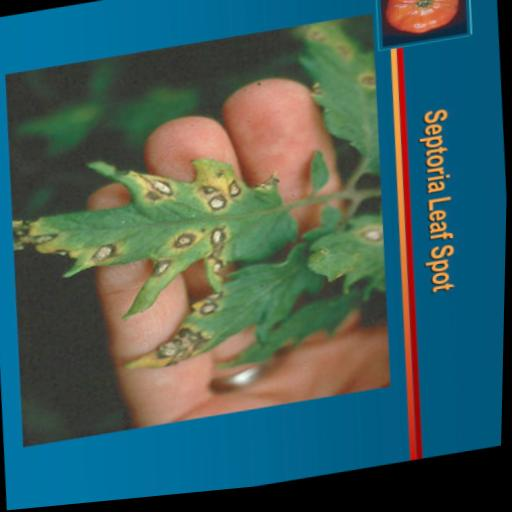Septoria: (8, 132, 295, 325), (116, 245, 334, 383), (282, 25, 380, 195), (306, 216, 391, 319)
